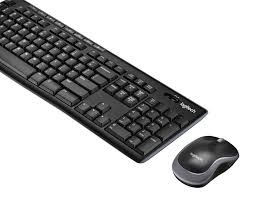keyboard: (0, 0, 210, 166)
mouse: (170, 133, 242, 190)
